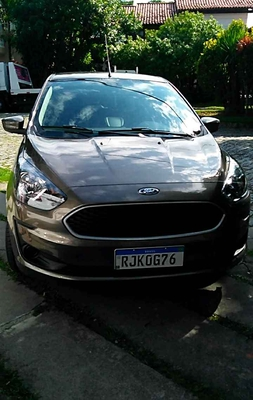Frontal Veiculo: (6, 75, 250, 280)
